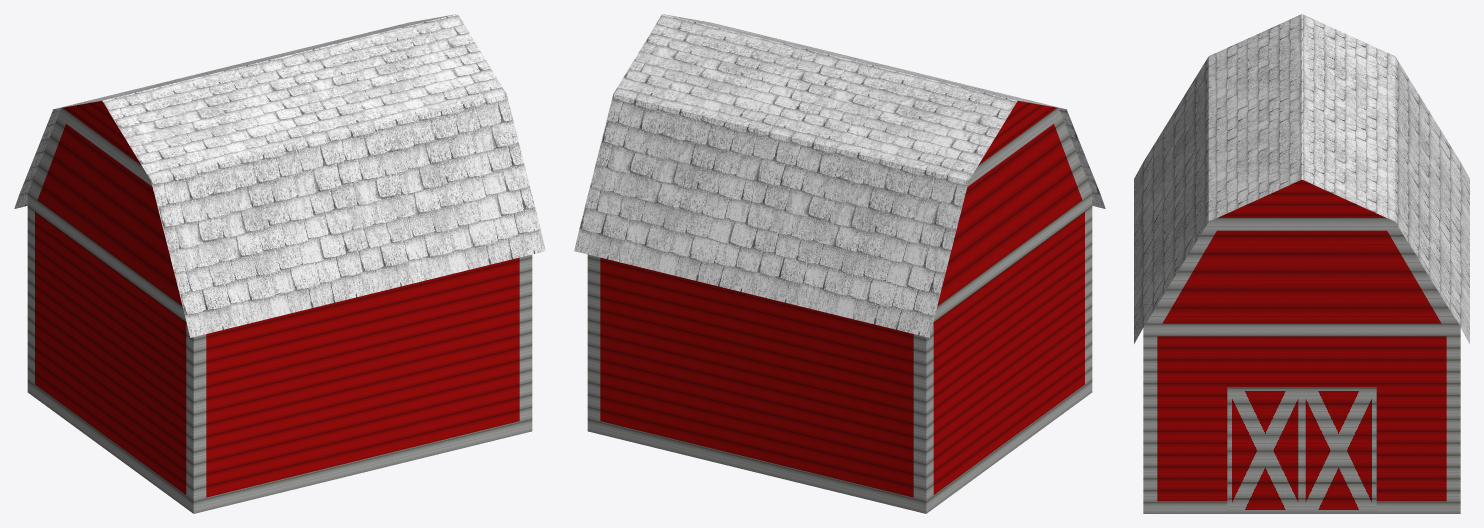
Rendered from Barn.obj.
The picture shows the model from 3 angles, left to right: view 1: azimuth 30°, elevation 25°; view 2: azimuth 150°, elevation 25°; view 3: azimuth 270°, elevation 25°; orthographic projection. The views are drawn at different scales.
Visible parts, largest first — view 1: BarnStructure, BarnRoofTop, BarnRoofBottom; view 2: BarnStructure, BarnRoofTop, BarnRoofBottom; view 3: BarnStructure, BarnRoofTop, BarnRoofBottom, BarnDoor.
Part boxes in pixels (left/top/right/bottom): BarnStructure: left=27, top=101, right=532, bottom=513; BarnRoofTop: left=14, top=14, right=545, bottom=337; BarnRoofBottom: left=15, top=15, right=544, bottom=336; BarnStructure: left=587, top=101, right=1092, bottom=513; BarnRoofTop: left=574, top=14, right=1105, bottom=337; BarnRoofBottom: left=575, top=15, right=1104, bottom=336; BarnStructure: left=1143, top=180, right=1460, bottom=513; BarnRoofTop: left=1134, top=14, right=1469, bottom=343; BarnRoofBottom: left=1134, top=14, right=1469, bottom=342; BarnDoor: left=1227, top=387, right=1376, bottom=513.
Bounding box in the file's own units: 8.4 × 8 × 7.2.
Materials: 4 (4 with a texture image).
